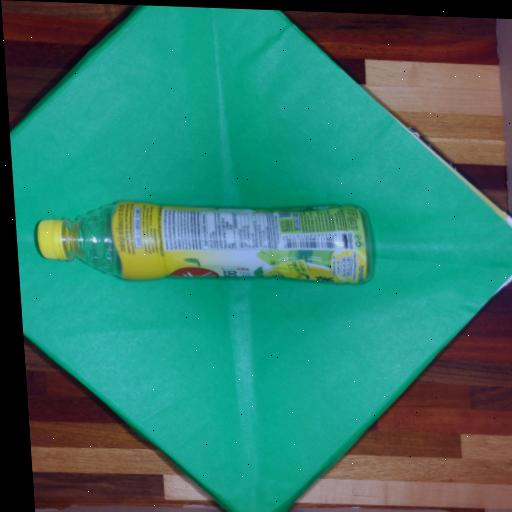bottle: (37, 202, 372, 283)
